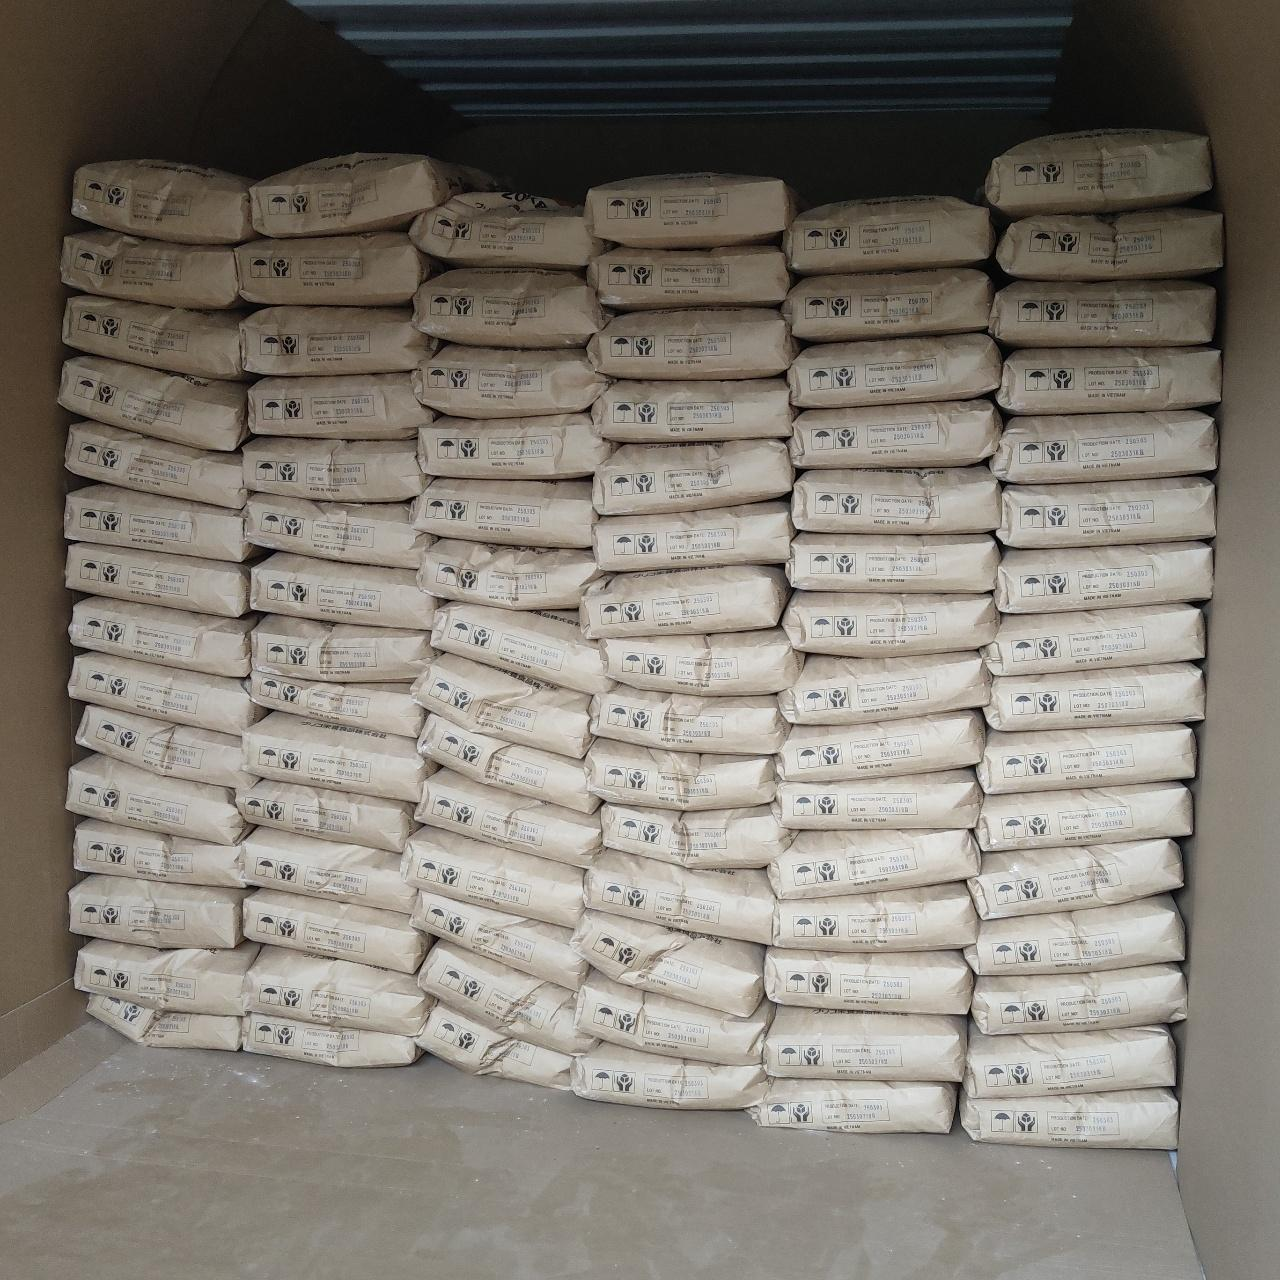sack: (417, 939, 598, 1054), (572, 908, 763, 1016), (983, 129, 1212, 218), (251, 154, 495, 236), (401, 826, 583, 927), (411, 656, 592, 757), (584, 847, 774, 942), (576, 969, 770, 1062), (416, 768, 602, 864), (59, 356, 248, 450), (417, 712, 595, 810), (66, 753, 251, 845), (243, 712, 435, 801), (966, 896, 1184, 974), (431, 602, 617, 694), (968, 839, 1183, 918), (783, 196, 994, 275), (411, 892, 584, 989), (247, 947, 431, 1036), (584, 172, 797, 248), (68, 652, 263, 735), (244, 888, 433, 973), (996, 207, 1223, 278), (990, 411, 1216, 482), (781, 268, 994, 342), (788, 333, 1001, 407), (965, 1022, 1175, 1097), (413, 268, 612, 347), (765, 1005, 967, 1082), (64, 422, 244, 509), (72, 159, 256, 244), (983, 605, 1204, 675), (410, 192, 604, 272), (995, 542, 1213, 612), (69, 597, 258, 678), (989, 280, 1217, 347), (972, 964, 1187, 1034), (998, 477, 1216, 546), (593, 440, 794, 515), (779, 652, 989, 723), (975, 782, 1192, 851), (64, 484, 258, 561), (996, 347, 1220, 414), (240, 826, 415, 912), (985, 663, 1204, 731), (580, 566, 788, 638), (63, 295, 244, 377), (411, 345, 612, 418), (978, 726, 1194, 794), (76, 704, 256, 787), (588, 308, 797, 379), (790, 399, 1002, 468), (770, 829, 979, 898), (782, 590, 998, 656), (62, 229, 241, 308), (250, 553, 437, 629), (777, 710, 983, 779), (764, 883, 978, 949), (243, 493, 433, 568), (791, 467, 1000, 535), (234, 232, 433, 304), (74, 940, 259, 1015), (593, 501, 792, 570), (417, 1002, 576, 1089), (590, 685, 788, 754), (765, 948, 972, 1014), (67, 543, 248, 617), (585, 738, 775, 809), (241, 306, 434, 375), (571, 1042, 769, 1109), (599, 629, 804, 694), (588, 245, 794, 309), (958, 1088, 1178, 1148), (70, 874, 248, 948), (236, 779, 415, 852), (417, 540, 605, 610), (592, 377, 794, 441), (787, 532, 1000, 592), (772, 769, 982, 829), (418, 414, 612, 478), (602, 803, 792, 869), (413, 479, 595, 546), (251, 615, 433, 682), (248, 373, 433, 438), (252, 667, 421, 737), (243, 438, 427, 502), (74, 821, 246, 887), (745, 1080, 956, 1132), (243, 1015, 418, 1067), (87, 994, 240, 1050)
